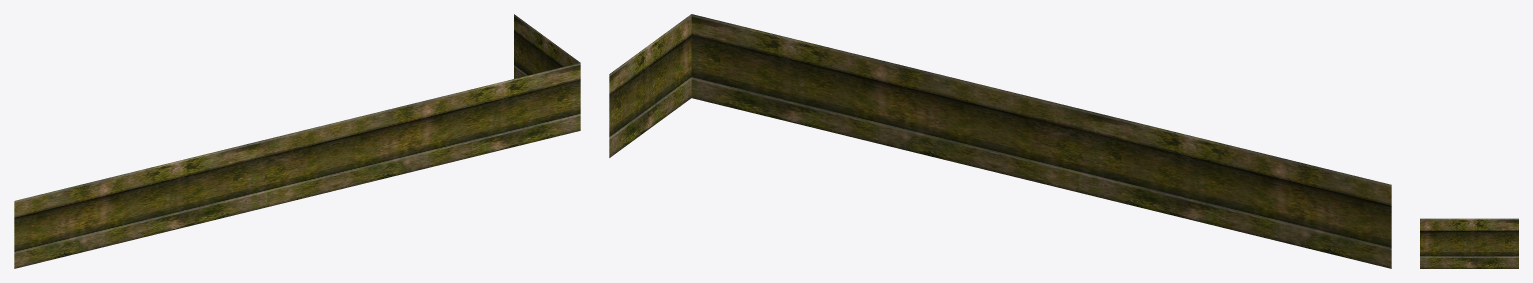
The model's file is OVERHILL_A_01_OBJECT137.fbx.
The picture shows the model from 3 angles, left to right: view 1: azimuth 30°, elevation 25°; view 2: azimuth 150°, elevation 25°; view 3: azimuth 270°, elevation 25°; orthographic projection. The views are drawn at different scales.
Parts seen in each view (by area): view 1: OVERHILL_A_01_OBJECT137; view 2: OVERHILL_A_01_OBJECT137; view 3: OVERHILL_A_01_OBJECT137.
Boxes of the visible parts, <box> form: OVERHILL_A_01_OBJECT137: <box>14,14,580,268</box>; OVERHILL_A_01_OBJECT137: <box>609,14,1391,268</box>; OVERHILL_A_01_OBJECT137: <box>1420,218,1518,268</box>.
Size of the model in its own units: 49061 by 5634 by 10000.
1 material, 1 textured.
